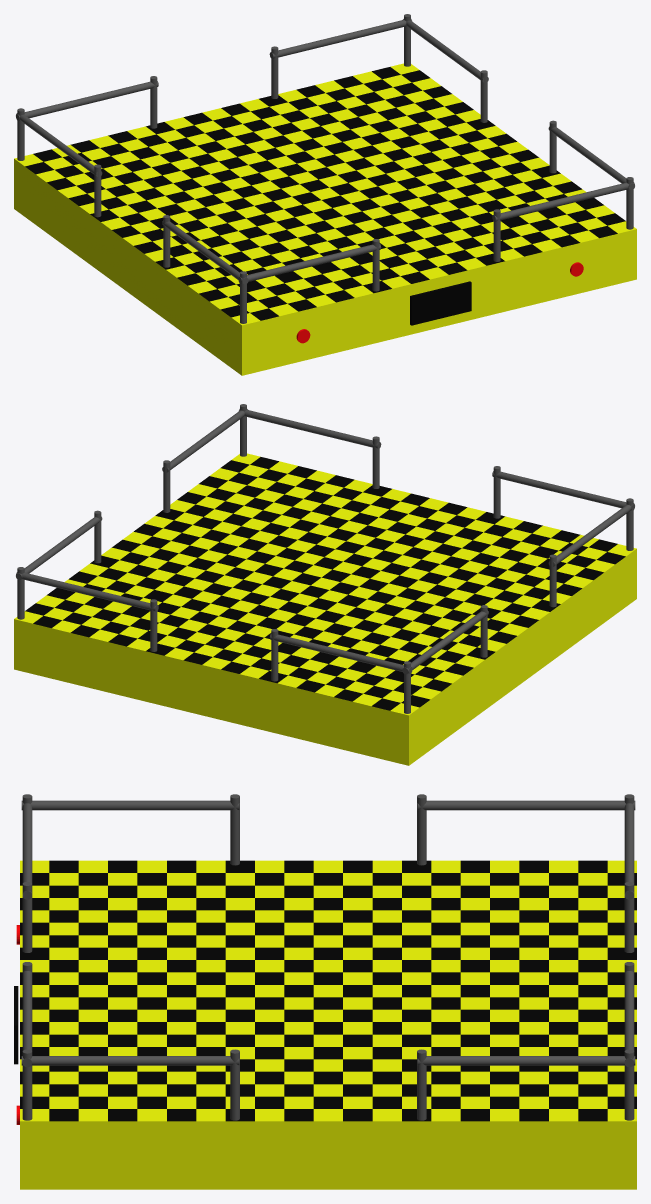
The model's file is Moving Platform.fbx.
3 renders of one model, top to bottom at view 1: azimuth 30°, elevation 25°; view 2: azimuth 150°, elevation 25°; view 3: azimuth 270°, elevation 25°, orthographic. The views are drawn at different scales.
Parts seen in each view (by area): view 1: Cube, Cube.002, Cylinder.003, Cube.001; view 2: Cube, Cube.002, Cylinder.003; view 3: Cube, Cube.002, Cylinder.003.
Part boxes in pixels (x1,y1,x2,y2): Cube: (14,63,636,375); Cube.002: (25,67,625,320); Cylinder.003: (16,14,634,323); Cube.001: (410,281,471,325); Cube: (14,453,636,765); Cube.002: (25,457,625,710); Cylinder.003: (16,404,634,713); Cube: (20,860,636,1189); Cube.002: (20,860,636,1121); Cylinder.003: (21,794,635,1120).
Size of the model in its own units: 1390 by 337 by 1403.
